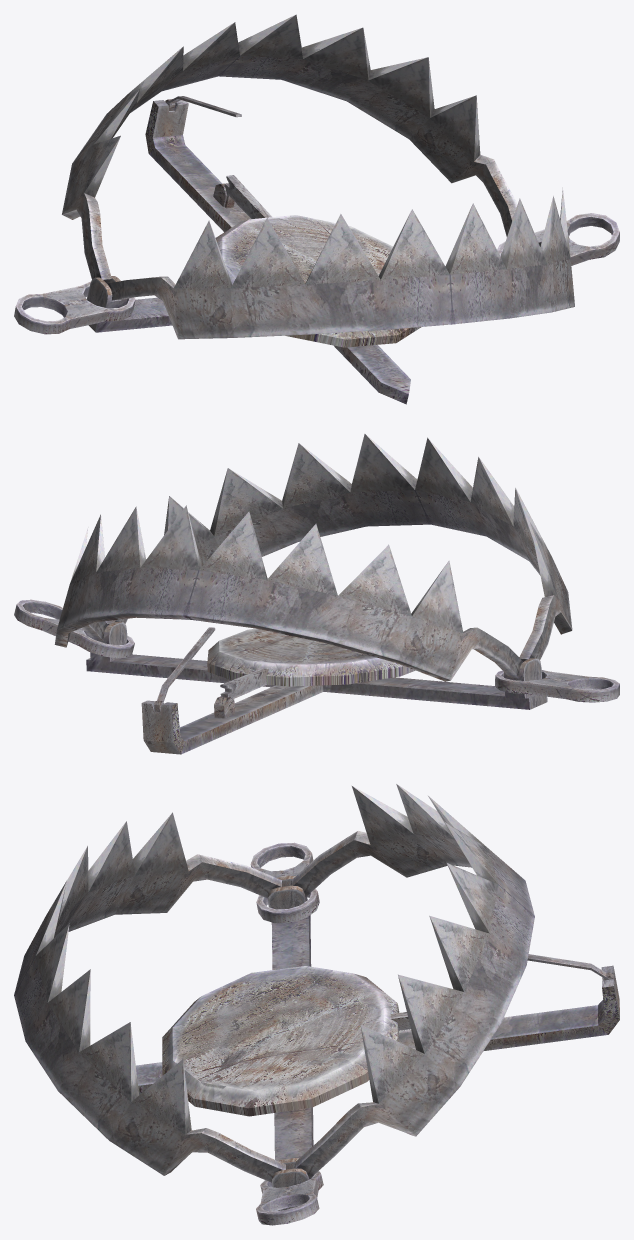
3 views of the same model, one above another, from view 1: azimuth 30°, elevation 25°; view 2: azimuth 150°, elevation 25°; view 3: azimuth 270°, elevation 25° (orthographic). The views are drawn at different scales.
Visible parts, largest first — view 1: Trap_LeftSide, Trap_RightSide, Trap_Cross, Trap_Center, Trap_1, Trap_4; view 2: Trap_RightSide, Trap_LeftSide, Trap_Cross, Trap_Center, Trap_1, Trap_4, Trap_3; view 3: Trap_RightSide, Trap_LeftSide, Trap_Center, Trap_Cross, Trap_1.
Boxes of the visible parts, left/top/right/bottom form: Trap_LeftSide: left=107, top=187, right=574, bottom=339; Trap_RightSide: left=62, top=14, right=517, bottom=283; Trap_Cross: left=86, top=99, right=410, bottom=404; Trap_Center: left=215, top=215, right=421, bottom=347; Trap_1: left=14, top=213, right=619, bottom=334; Trap_4: left=224, top=175, right=272, bottom=218; Trap_RightSide: left=54, top=505, right=522, bottom=681; Trap_LeftSide: left=105, top=434, right=572, bottom=661; Trap_Cross: left=86, top=622, right=547, bottom=754; Trap_Center: left=207, top=628, right=415, bottom=686; Trap_1: left=14, top=599, right=619, bottom=702; Trap_4: left=220, top=668, right=268, bottom=700; Trap_3: left=157, top=627, right=215, bottom=707; Trap_RightSide: left=292, top=784, right=534, bottom=1178; Trap_LeftSide: left=14, top=812, right=285, bottom=1182; Trap_Center: left=162, top=966, right=399, bottom=1116; Trap_Cross: left=136, top=876, right=619, bottom=1210; Trap_1: left=250, top=842, right=323, bottom=1225.
Size of the model in its own units: 149 by 63.19 by 123.
Materials: 1 (1 with a texture image).
